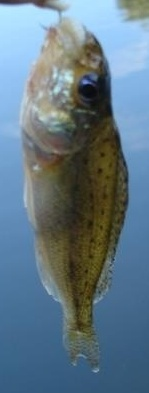Gymnocephalus cernuus: (20, 20, 129, 373)
